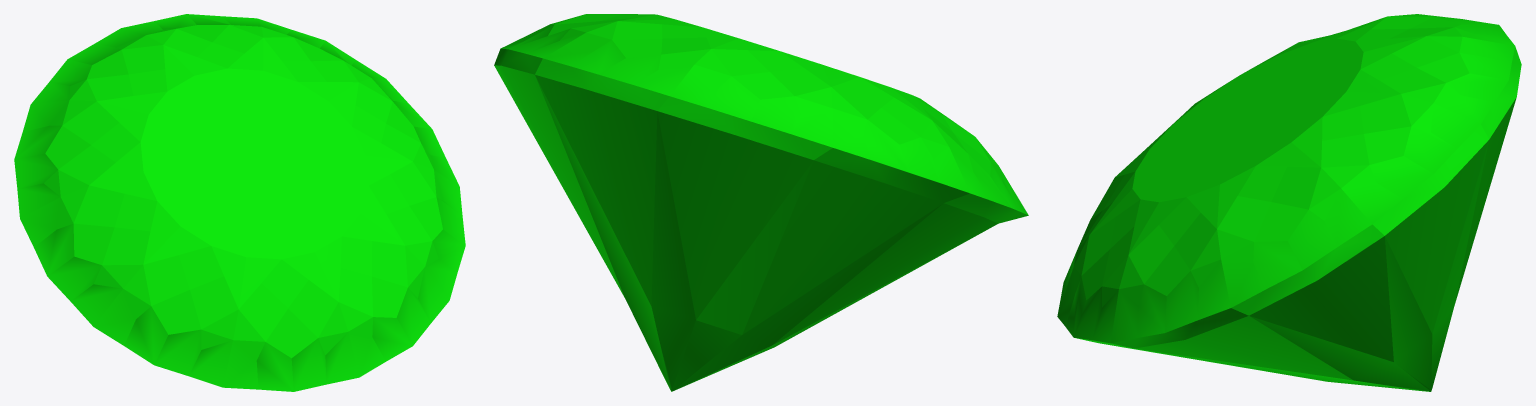
Rendered from Crystal0.fbx.
3 renders of one model, left to right at view 1: azimuth 30°, elevation 25°; view 2: azimuth 150°, elevation 25°; view 3: azimuth 270°, elevation 25°, orthographic. The views are drawn at different scales.
Parts seen in each view (by area): view 1: Diamond; view 2: Diamond; view 3: Diamond.
Boxes of the visible parts, x1=… form: Diamond: x1=14, y1=14, x2=465, y2=391; Diamond: x1=494, y1=14, x2=1028, y2=391; Diamond: x1=1057, y1=14, x2=1521, y2=391.
Bounding box in the file's own units: 2.26 × 1.58 × 1.97.
